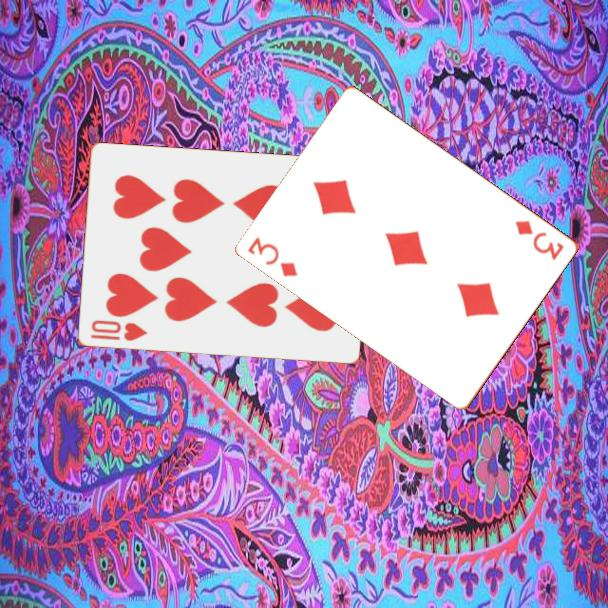d03: (244, 233, 301, 280), (512, 216, 567, 263)
h10: (87, 317, 150, 344)
